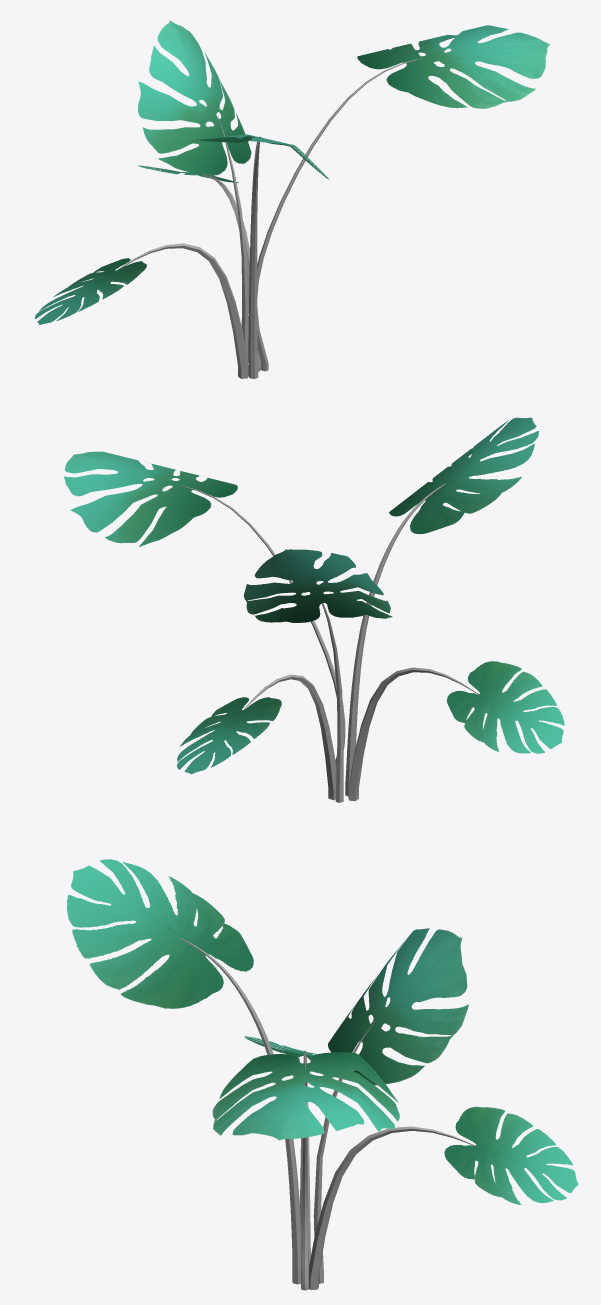
Rendered from monstera.fbx.
The picture shows the model from 3 angles, top to bottom: view 1: azimuth 30°, elevation 25°; view 2: azimuth 150°, elevation 25°; view 3: azimuth 270°, elevation 25°; orthographic projection. The views are drawn at different scales.
Visible parts, largest first — view 1: leaves, stems; view 2: leaves, stems; view 3: leaves, stems.
Part boxes in pixels (x1,y1,x2,y2): leaves: (35,20,550,324); stems: (117,58,421,378); leaves: (64,417,564,774); stems: (146,480,478,802); leaves: (67,859,578,1204); stems: (179,937,474,1290).
Bounding box in the file's own units: 230 × 145 × 202.
